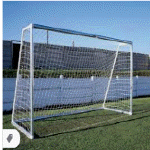goals: (11, 21, 137, 139)
